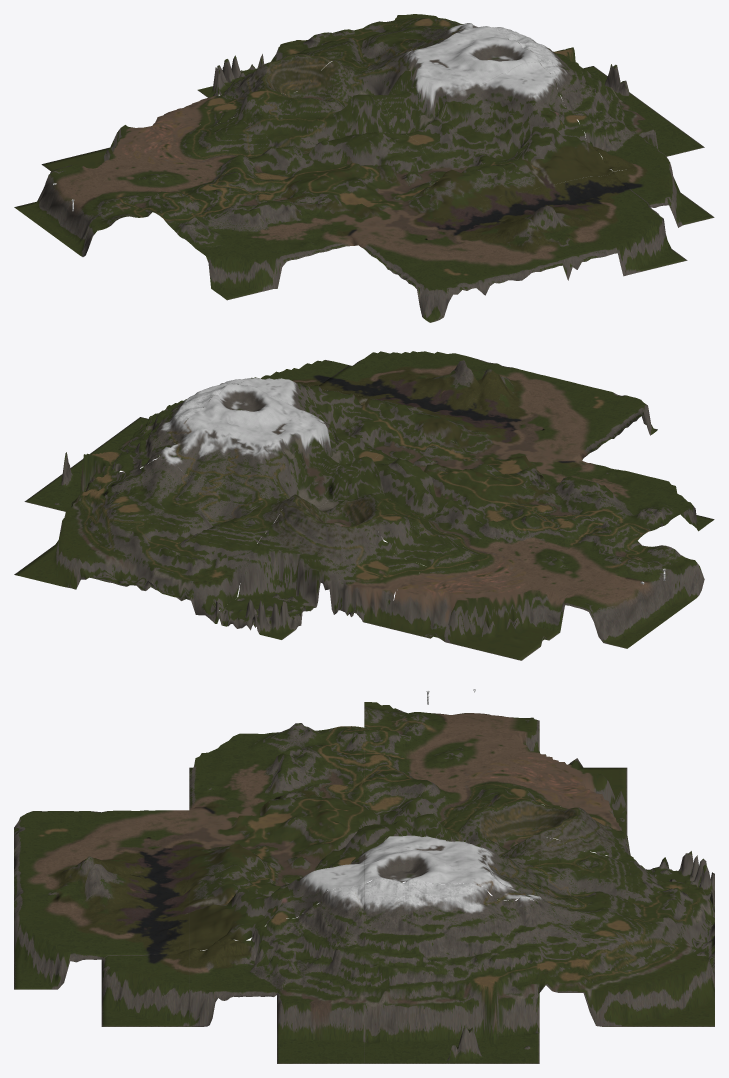
File: Map.fbx
The picture shows the model from 3 angles, top to bottom: view 1: azimuth 30°, elevation 25°; view 2: azimuth 150°, elevation 25°; view 3: azimuth 270°, elevation 25°; orthographic projection. The views are drawn at different scales.
Parts seen in each view (by area): view 1: StaticMesh_330.mo, StaticMesh_141.mo, StaticMesh_191.mo, StaticMesh_331.mo, StaticMesh_328.mo, StaticMesh_192.mo, StaticMesh_329.mo, StaticMesh_148.mo, StaticMesh_216.mo, StaticMesh_140.mo, StaticMesh_378.mo, StaticMesh_379.mo (+3 smaller); view 2: StaticMesh_379.mo, StaticMesh_378.mo, StaticMesh_329.mo, StaticMesh_148.mo, StaticMesh_331.mo, StaticMesh_191.mo, StaticMesh_328.mo, StaticMesh_319.mo, StaticMesh_141.mo, StaticMesh_140.mo, StaticMesh_192.mo, StaticMesh_330.mo (+4 smaller); view 3: StaticMesh_213.mo, StaticMesh_216.mo, StaticMesh_192.mo, StaticMesh_PL_MainWorld5_HLOD0_Landscape_5.mo, StaticMesh_379.mo, StaticMesh_141.mo, StaticMesh_148.mo, StaticMesh_328.mo, StaticMesh_191.mo, StaticMesh_330.mo, StaticMesh_329.mo, StaticMesh_331.mo (+4 smaller).
Part boxes in pixels (bbox=[...]): StaticMesh_330.mo: bbox=[411, 62, 612, 200]; StaticMesh_141.mo: bbox=[153, 180, 355, 300]; StaticMesh_191.mo: bbox=[356, 201, 558, 322]; StaticMesh_331.mo: bbox=[207, 60, 409, 180]; StaticMesh_328.mo: bbox=[282, 133, 484, 245]; StaticMesh_192.mo: bbox=[485, 172, 687, 280]; StaticMesh_329.mo: bbox=[339, 23, 538, 136]; StaticMesh_148.mo: bbox=[87, 128, 280, 212]; StaticMesh_216.mo: bbox=[539, 60, 704, 174]; StaticMesh_140.mo: bbox=[14, 165, 152, 256]; StaticMesh_378.mo: bbox=[177, 53, 335, 127]; StaticMesh_379.mo: bbox=[271, 18, 450, 68]; StaticMesh_379.mo: bbox=[81, 458, 291, 623]; StaticMesh_378.mo: bbox=[215, 495, 425, 639]; StaticMesh_329.mo: bbox=[158, 383, 357, 508]; StaticMesh_148.mo: bbox=[426, 508, 637, 632]; StaticMesh_331.mo: bbox=[293, 456, 503, 566]; StaticMesh_191.mo: bbox=[450, 369, 657, 460]; StaticMesh_328.mo: bbox=[373, 415, 577, 508]; StaticMesh_319.mo: bbox=[388, 566, 559, 660]; StaticMesh_141.mo: bbox=[504, 458, 714, 540]; StaticMesh_140.mo: bbox=[560, 541, 704, 648]; StaticMesh_192.mo: bbox=[315, 351, 520, 416]; StaticMesh_330.mo: bbox=[239, 378, 445, 459]; StaticMesh_213.mo: bbox=[364, 878, 539, 1063]; StaticMesh_216.mo: bbox=[189, 884, 364, 1063]; StaticMesh_192.mo: bbox=[14, 856, 189, 989]; StaticMesh_PL_MainWorld5_HLOD0_Landscape_5.mo: bbox=[539, 904, 714, 1026]; StaticMesh_379.mo: bbox=[539, 835, 714, 975]; StaticMesh_141.mo: bbox=[189, 723, 364, 809]; StaticMesh_148.mo: bbox=[364, 727, 539, 806]; StaticMesh_328.mo: bbox=[189, 797, 364, 878]; StaticMesh_191.mo: bbox=[14, 810, 189, 884]; StaticMesh_330.mo: bbox=[189, 852, 364, 950]; StaticMesh_329.mo: bbox=[364, 835, 539, 903]; StaticMesh_331.mo: bbox=[364, 787, 539, 858].
Bounding box in the file's own units: 228600 × 36347 × 203200.
